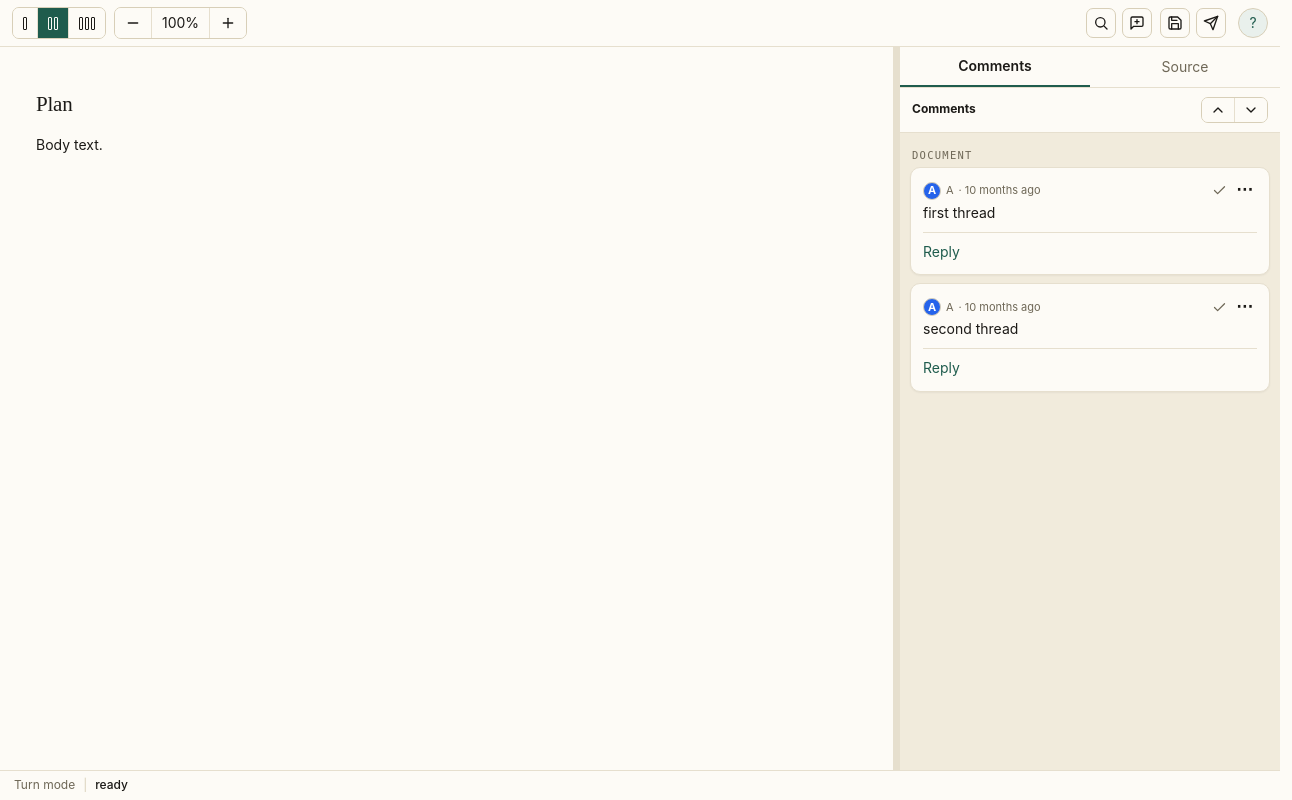
Scenario: comment-thread navigation › Next/Prev Thread step focus and disable at the ends
This screenshot has width=1292, height=800.
Expected: the button named "previous thread" is enabled, 1202,98 -> 1235,122
Click the button named "next thread" at (1251, 110), box 1235,98 -> 1267,122
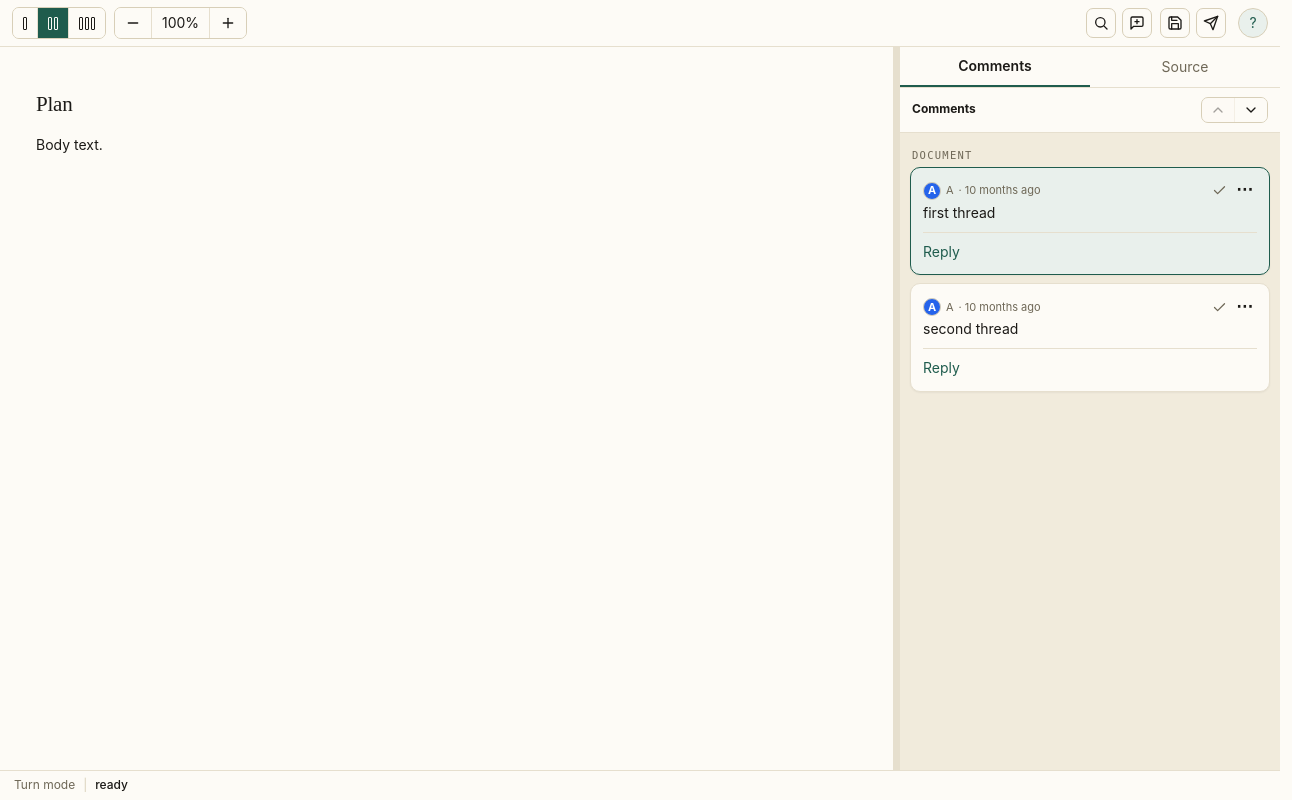
Expected: the button named "previous thread" is disabled, 1202,98 -> 1235,122
Click the button named "next thread" at (1251, 110), box 1235,98 -> 1267,122
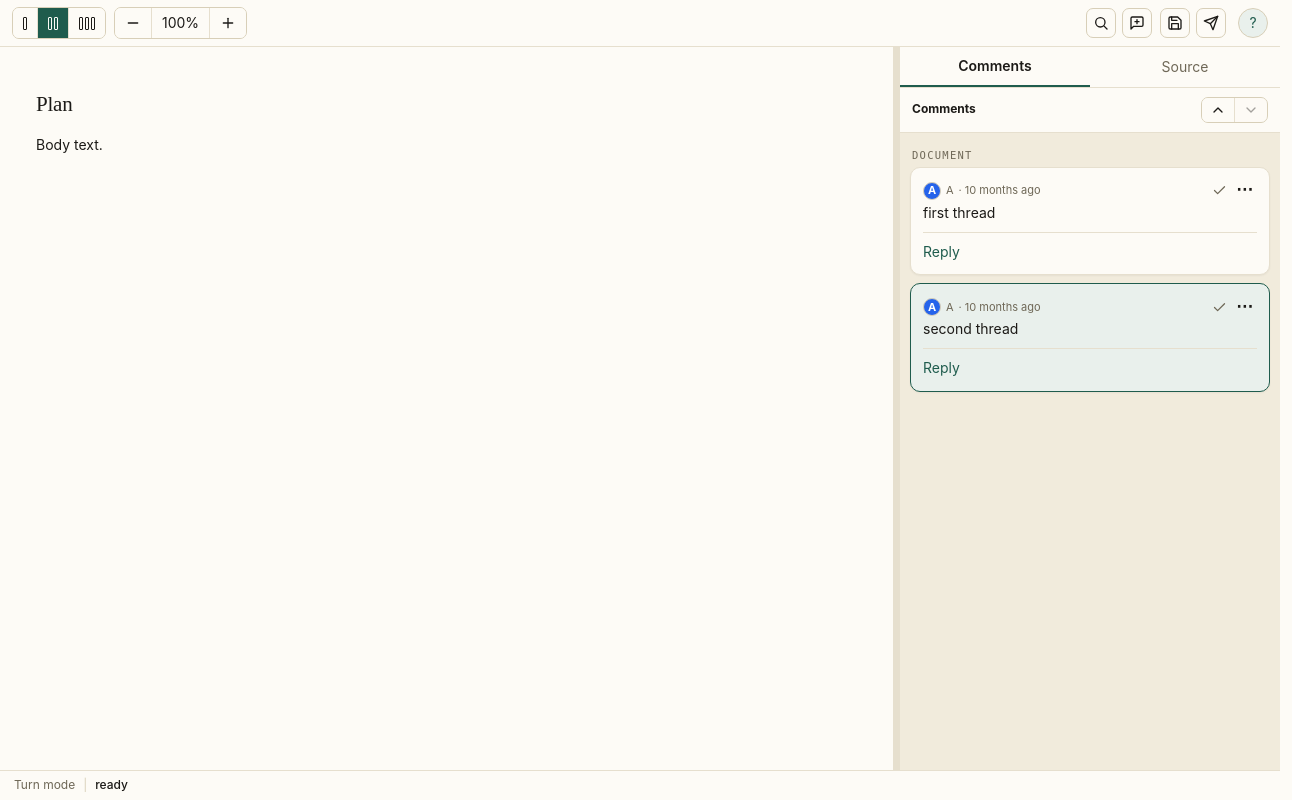
Expected: the button named "next thread" is disabled, 1235,98 -> 1267,122
Expected: the button named "previous thread" is enabled, 1202,98 -> 1235,122
